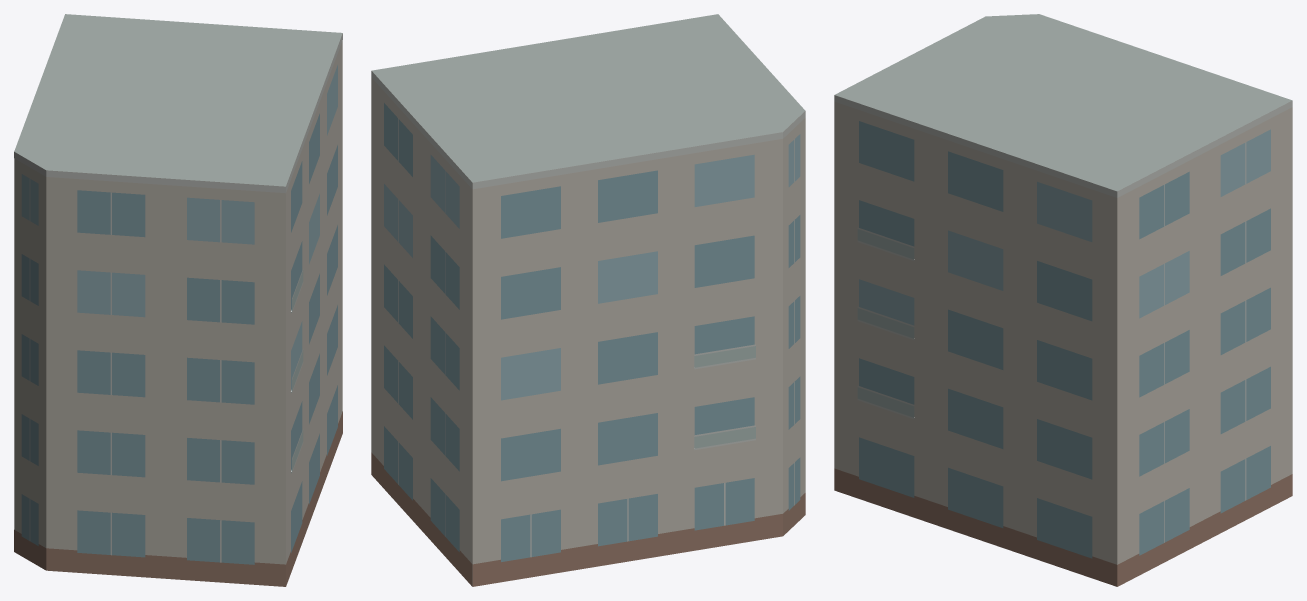
File: survey-upis-32615965.glb
3 renders of one model, left to right at view 1: azimuth 30°, elevation 25°; view 2: azimuth 150°, elevation 25°; view 3: azimuth 270°, elevation 25°, orthographic. The views are drawn at different scales.
Parts seen in each view (by area): view 1: survey-upis-32615965.tmp; view 2: survey-upis-32615965.tmp; view 3: survey-upis-32615965.tmp.
Boxes of the visible parts, x1=… form: survey-upis-32615965.tmp: x1=14, y1=14, x2=342, y2=586; survey-upis-32615965.tmp: x1=371, y1=14, x2=805, y2=586; survey-upis-32615965.tmp: x1=834, y1=14, x2=1292, y2=586.
Size of the model in its own units: 14.25 by 14.8 by 15.56.
